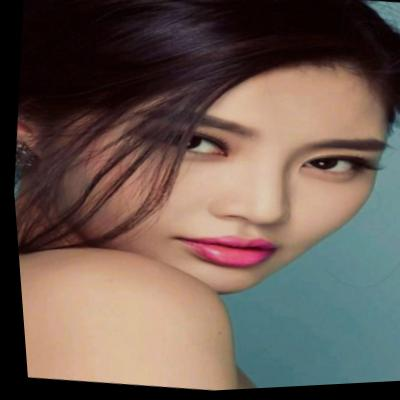netural: (42, 13, 400, 324)
